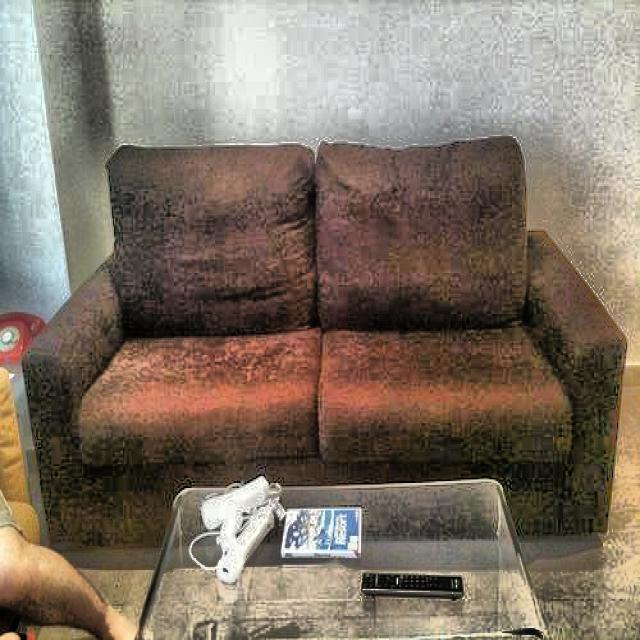sofa: (18, 137, 625, 560)
